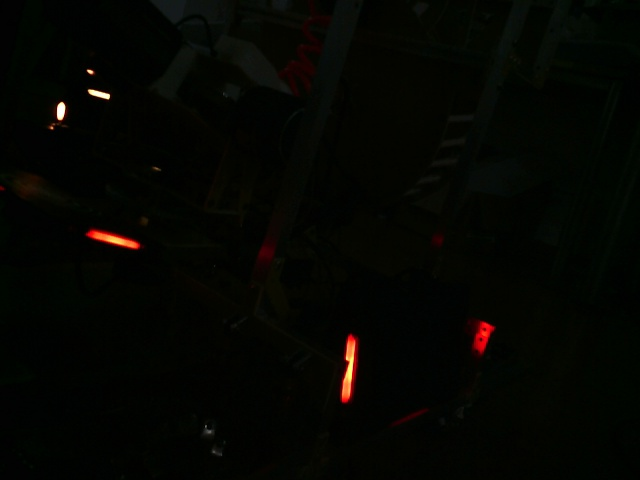lamp: (339, 327, 361, 407)
